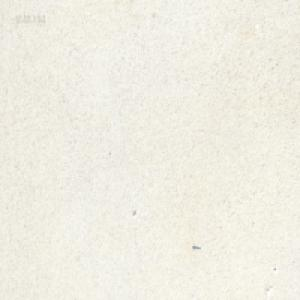Nail: (192, 243, 201, 250)
